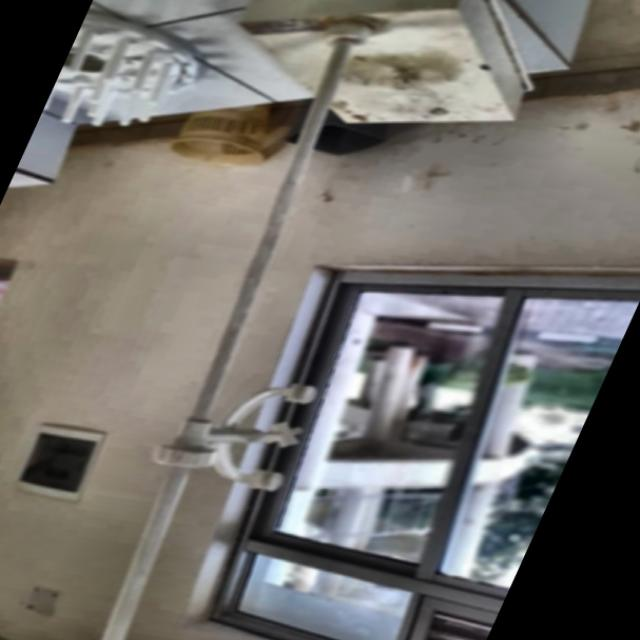Stand: (0, 0, 578, 640)
